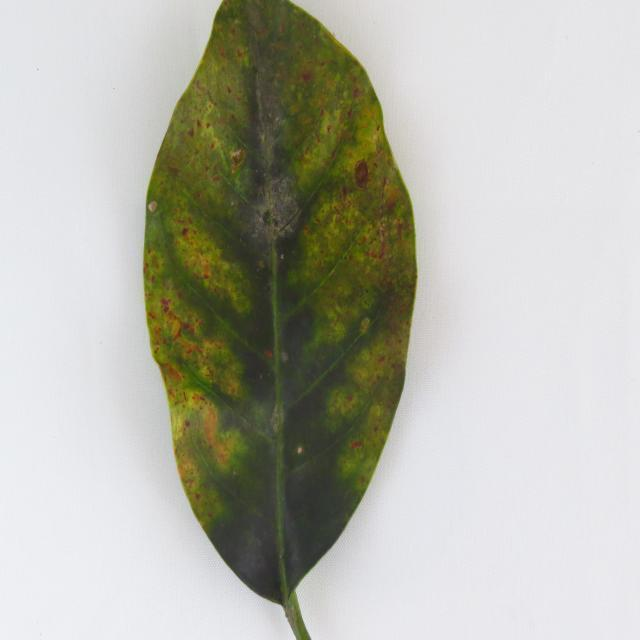DeficienciaNutricional-Magnesio: (144, 2, 416, 638)
